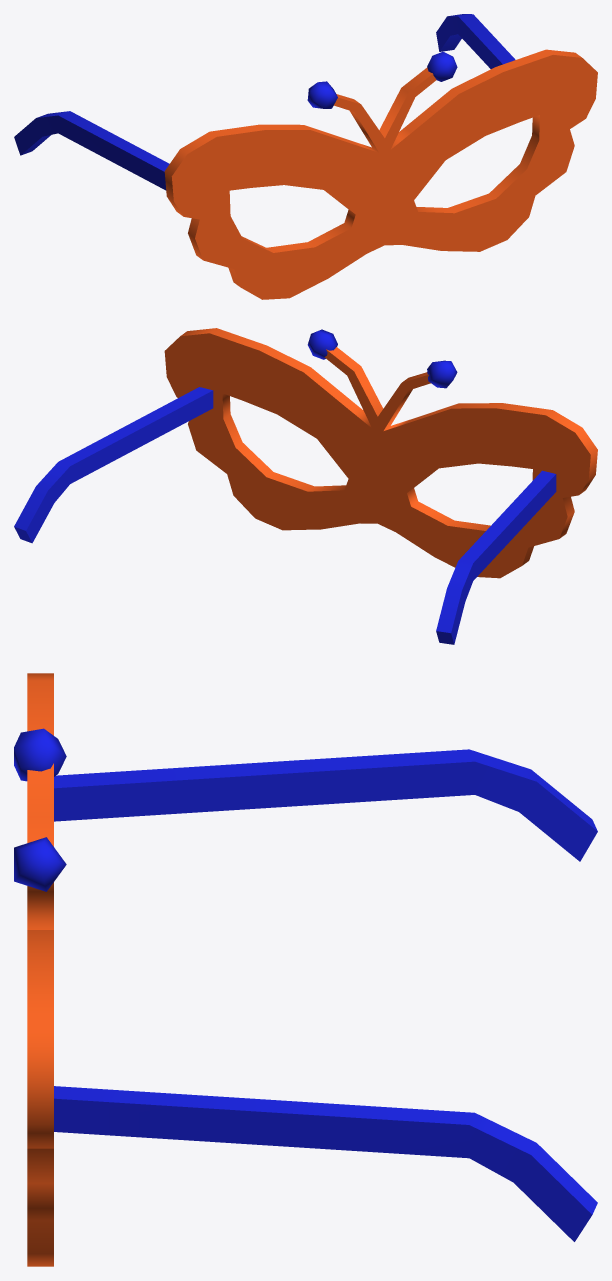
The model's file is Butterfly_glasses.fbx.
The picture shows the model from 3 angles, top to bottom: view 1: azimuth 30°, elevation 25°; view 2: azimuth 150°, elevation 25°; view 3: azimuth 270°, elevation 25°; orthographic projection. The views are drawn at different scales.
Visible parts, largest first — view 1: Butterfly_glasses.c, Glasses_stick_22, Glasses_stick_21; view 2: Butterfly_glasses.c, Glasses_stick_21, Glasses_stick_22; view 3: Glasses_stick_21, Glasses_stick_22, Butterfly_glasses.c.
Boxes of the visible parts, box(x1,y1,x2,y2) form: Butterfly_glasses.c: box(164, 49, 597, 299); Glasses_stick_22: box(14, 111, 169, 190); Glasses_stick_21: box(436, 14, 515, 68); Butterfly_glasses.c: box(164, 328, 597, 578); Glasses_stick_21: box(14, 387, 213, 543); Glasses_stick_22: box(436, 470, 556, 644); Glasses_stick_21: box(54, 1086, 597, 1241); Glasses_stick_22: box(54, 749, 597, 861); Butterfly_glasses.c: box(14, 673, 66, 1266).
Size of the model in its own units: 0.707 by 0.3167 by 0.4411.
